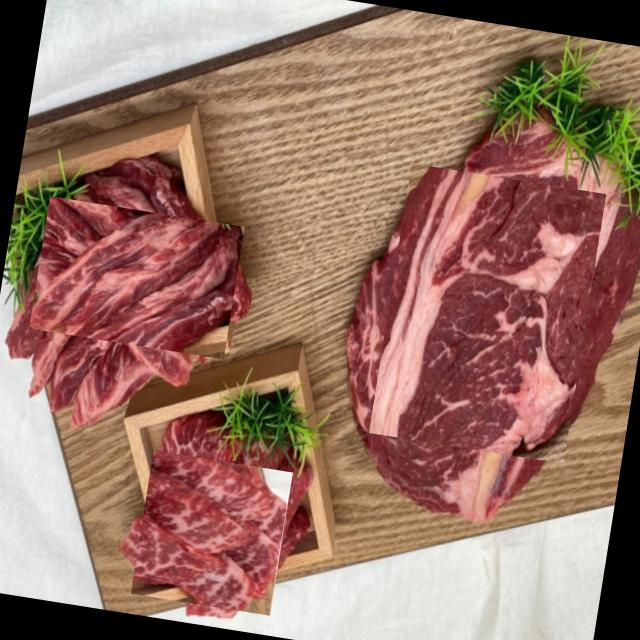beef: (368, 163, 608, 465), (42, 184, 232, 372), (130, 451, 294, 615)
